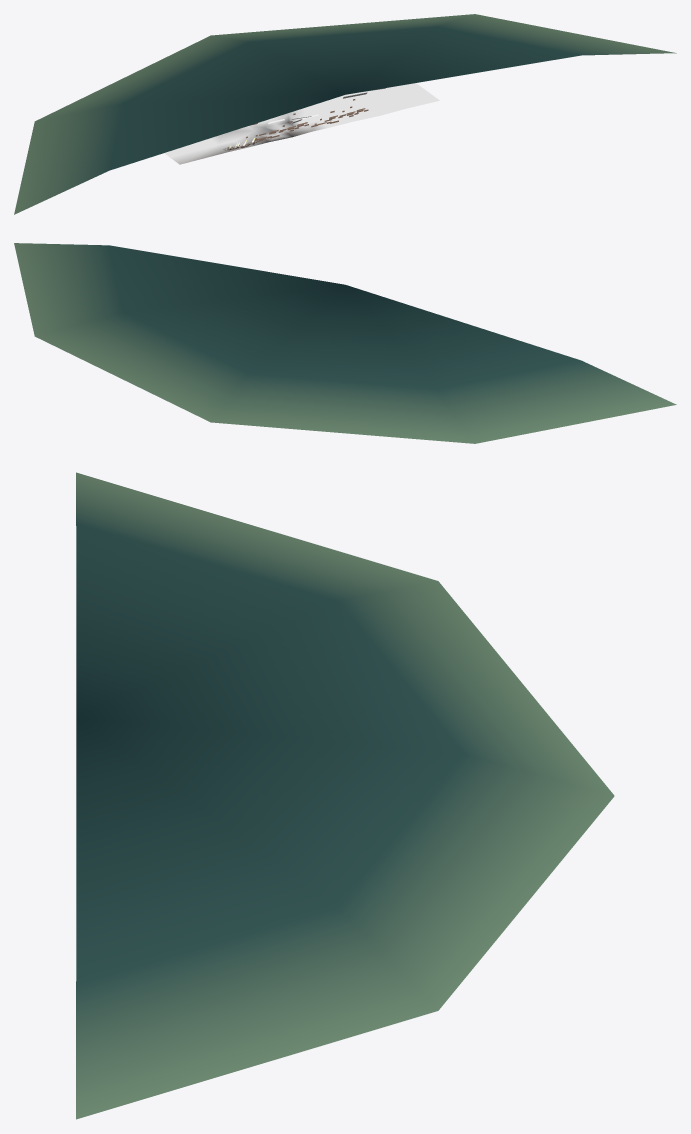
The model's file is Forest_04.fbx.
3 renders of one model, top to bottom at view 1: azimuth 30°, elevation 25°; view 2: azimuth 150°, elevation 25°; view 3: azimuth 270°, elevation 25°, orthographic. The views are drawn at different scales.
Parts seen in each view (by area): view 1: Light_01, Bg_01_A, Tree_01_A; view 2: Light_01; view 3: Light_01.
Boxes of the visible parts, x1,y1,x2,y2 form: Light_01: (14, 14, 676, 214); Bg_01_A: (164, 83, 439, 164); Tree_01_A: (246, 99, 368, 141); Light_01: (14, 243, 676, 443); Light_01: (76, 472, 614, 1119).
Size of the model in its own units: 8461 by 478 by 2977.
